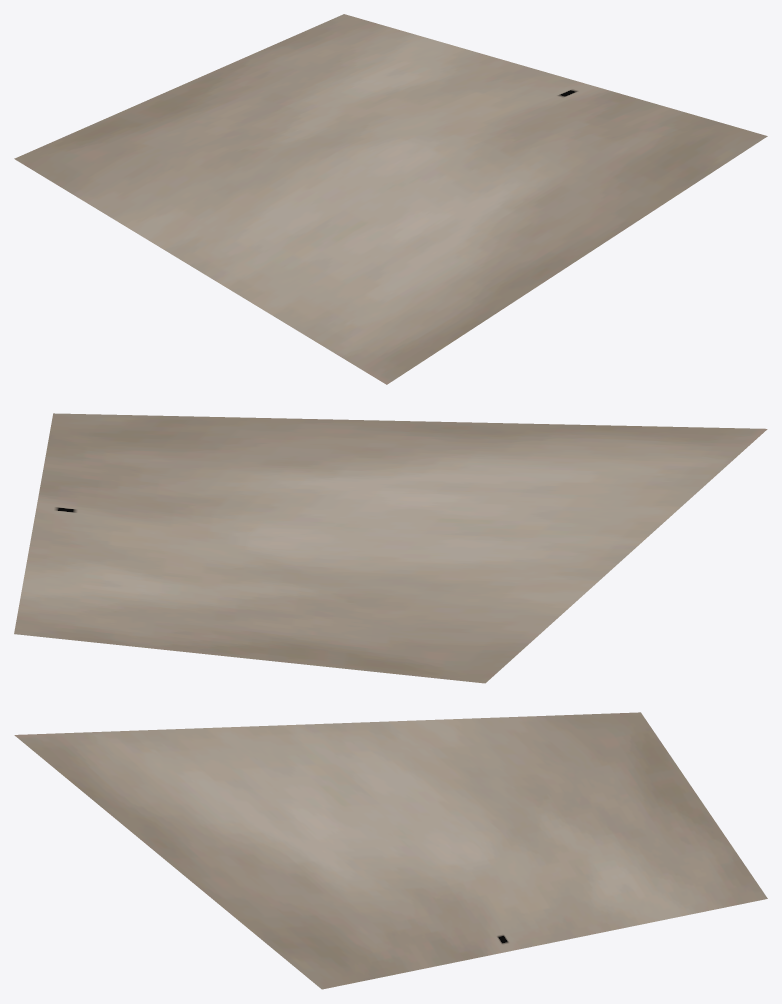
File: web_18.fbx
3 views of the same model, one above another, from view 1: azimuth 30°, elevation 25°; view 2: azimuth 150°, elevation 25°; view 3: azimuth 270°, elevation 25° (orthographic). The views are drawn at different scales.
Parts seen in each view (by area): view 1: mine_tileset/mine_web05_mat; view 2: mine_tileset/mine_web05_mat; view 3: mine_tileset/mine_web05_mat.
Boxes of the visible parts, left/top/right/bottom form: mine_tileset/mine_web05_mat: left=14, top=14, right=767, bottom=384; mine_tileset/mine_web05_mat: left=14, top=413, right=767, bottom=683; mine_tileset/mine_web05_mat: left=14, top=712, right=767, bottom=989.
Size of the model in its own units: 3.93 by 0 by 4.52.
